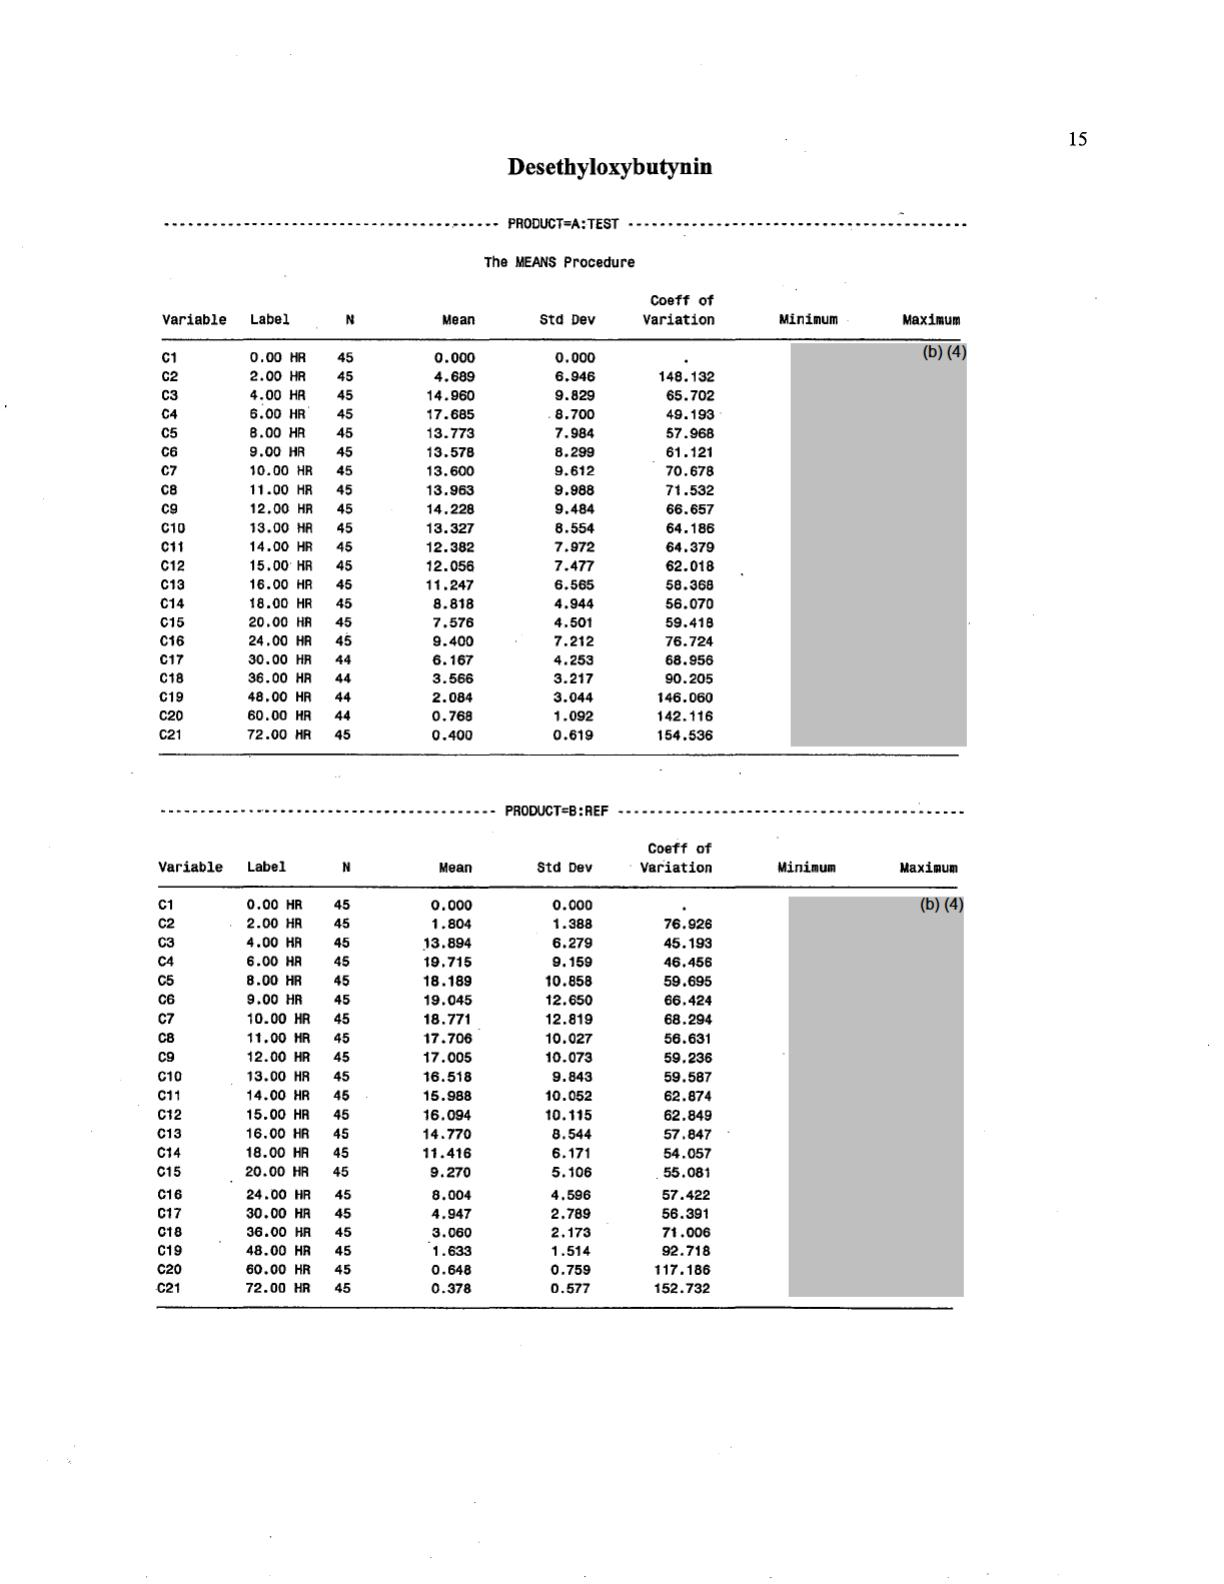partial_lined: (156, 831, 969, 1293), (154, 291, 968, 751)
